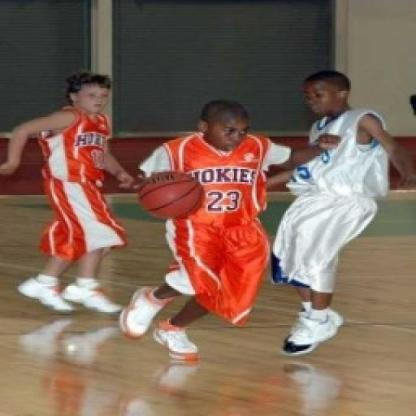basketball: (139, 171, 204, 222)
